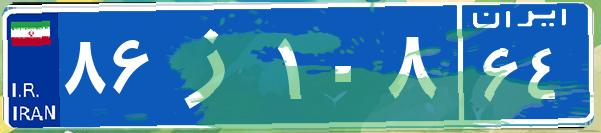0: (330, 28, 385, 110)
1: (273, 28, 330, 110)
4: (525, 38, 570, 115)
6: (475, 38, 525, 113), (110, 28, 158, 105)
8: (385, 28, 445, 110), (57, 26, 110, 107)
ز: (158, 15, 273, 115)
